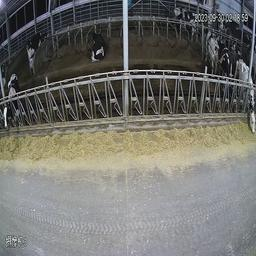cow: (241, 59, 256, 136), (3, 70, 19, 137), (201, 25, 219, 74), (26, 29, 48, 61), (89, 27, 109, 60), (175, 11, 196, 36)
